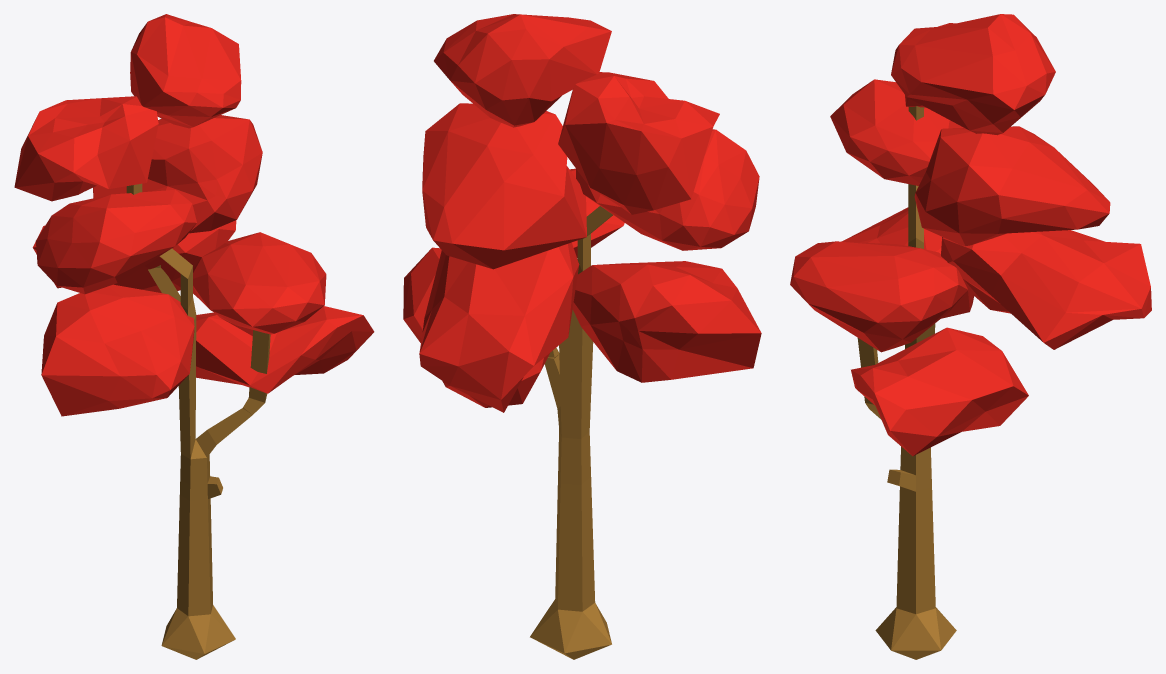
File: Tree_02.FBX
3 views of the same model, side by side, from view 1: azimuth 30°, elevation 25°; view 2: azimuth 150°, elevation 25°; view 3: azimuth 270°, elevation 25° (orthographic). The views are drawn at different scales.
Parts seen in each view (by area): view 1: Object006, Tronc; view 2: Object006, Tronc; view 3: Object006, Tronc.
Part boxes in pixels (x1=…): Object006: x1=14, y1=14, x2=374, y2=416; Tronc: x1=126, y1=183, x2=270, y2=659; Object006: x1=403, y1=14, x2=761, y2=412; Tronc: x1=530, y1=206, x2=612, y2=659; Object006: x1=790, y1=14, x2=1151, y2=456; Tronc: x1=857, y1=106, x2=956, y2=659.
Size of the model in its own units: 22.56 by 40.13 by 20.24.
